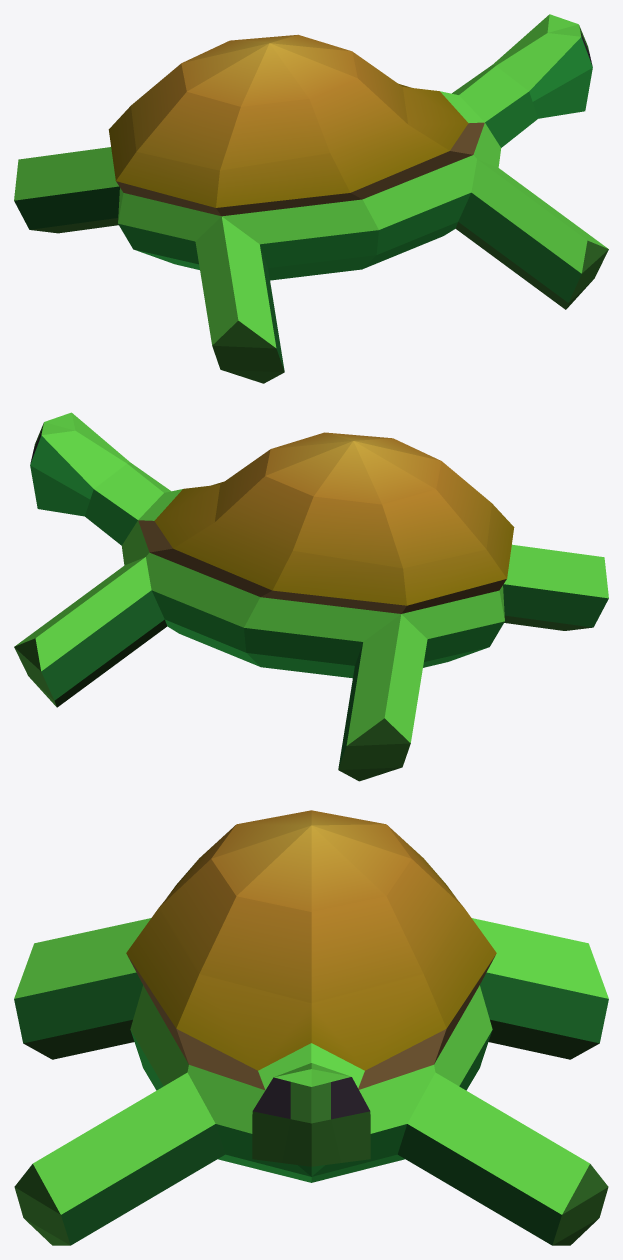
Rendered from turtle.fbx.
The picture shows the model from 3 angles, top to bottom: view 1: azimuth 30°, elevation 25°; view 2: azimuth 150°, elevation 25°; view 3: azimuth 270°, elevation 25°; orthographic projection. The views are drawn at different scales.
Parts seen in each view (by area): view 1: turtle; view 2: turtle; view 3: turtle.
Part boxes in pixels (<box>): turtle: <box>14,14,608,383</box>; turtle: <box>14,412,608,781</box>; turtle: <box>14,810,608,1245</box>.
Size of the model in its own units: 409 by 197 by 352.
